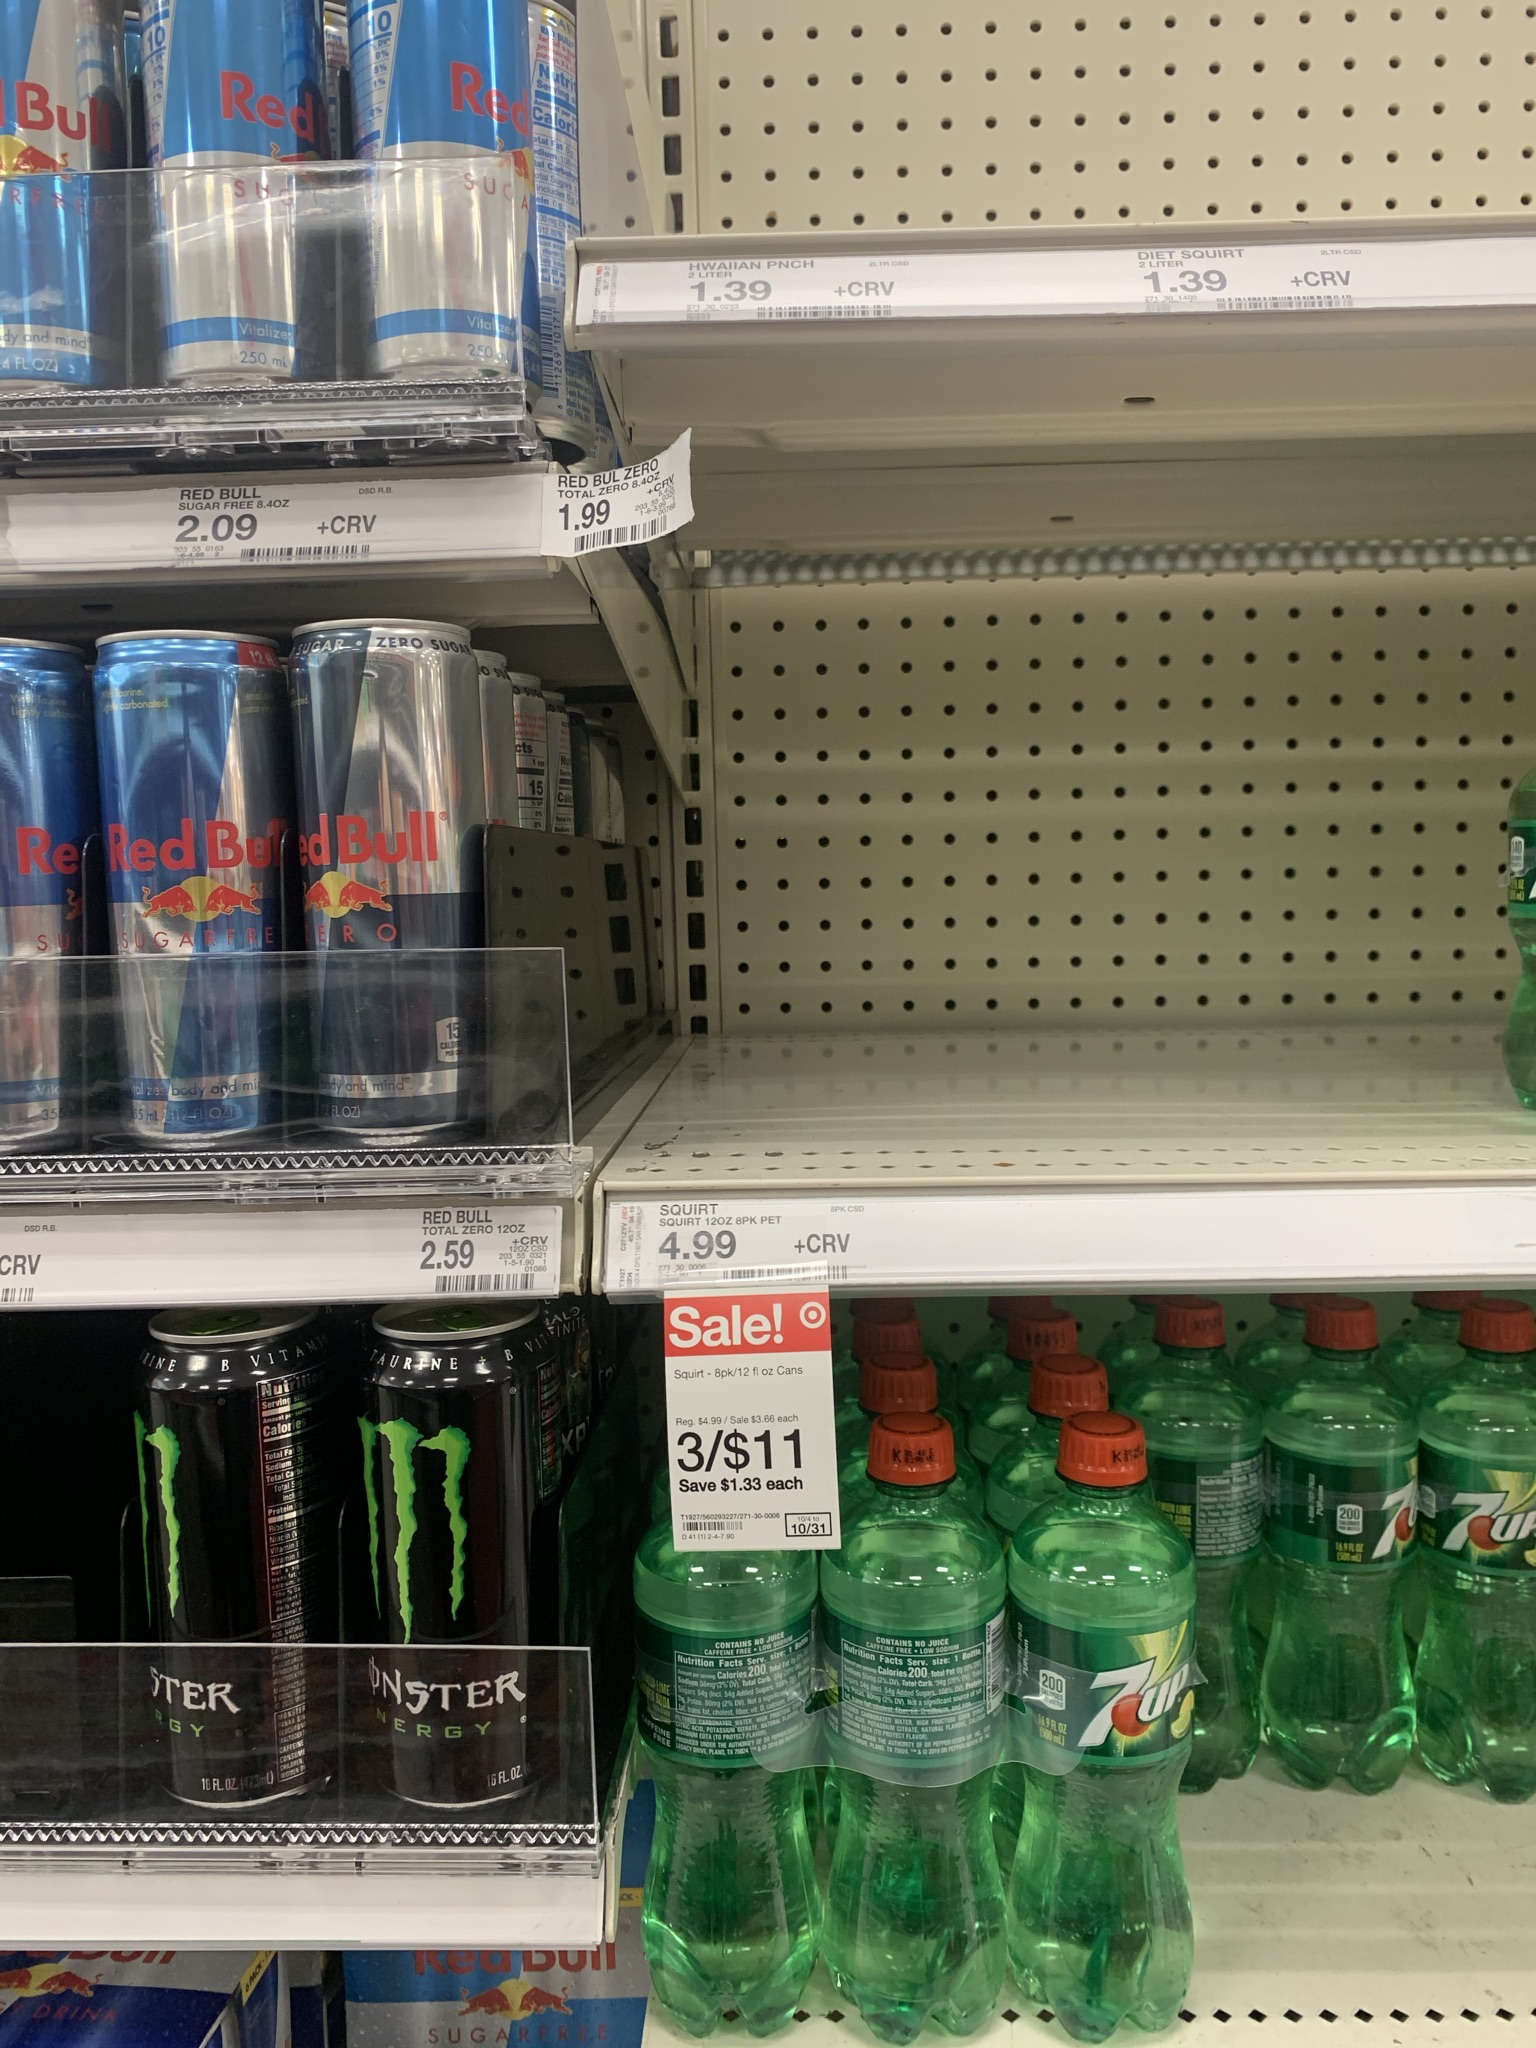7up soda: (665, 1414, 1526, 1919)
monster energy drink: (147, 1338, 587, 1796)
redbull soda: (10, 616, 547, 1109), (3, 11, 537, 331)
